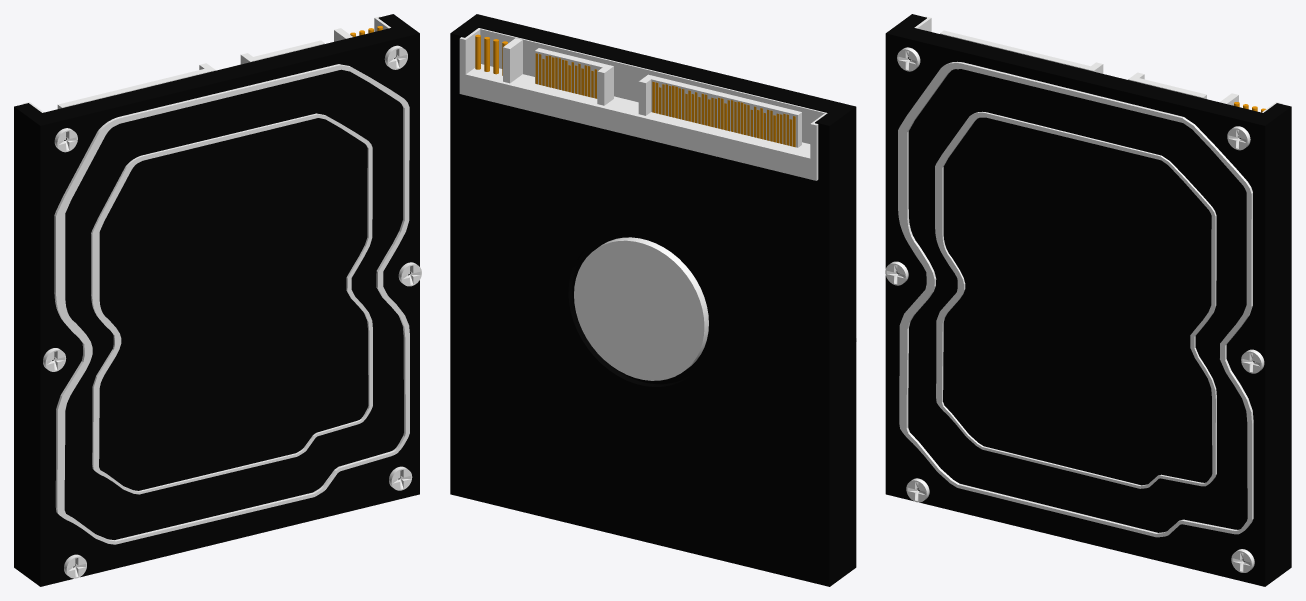
Rendered from HDD.FBX.
3 renders of one model, left to right at view 1: azimuth 30°, elevation 25°; view 2: azimuth 150°, elevation 25°; view 3: azimuth 330°, elevation 25°, orthographic.
Parts seen in each view (by area): view 1: Box001; view 2: Box001; view 3: Box001.
Boxes of the visible parts, box(x1,y1,x2,y2) form: Box001: box(14, 14, 421, 586); Box001: box(450, 14, 856, 586); Box001: box(885, 14, 1291, 586).
Size of the model in its own units: 172 by 200 by 24.47.
